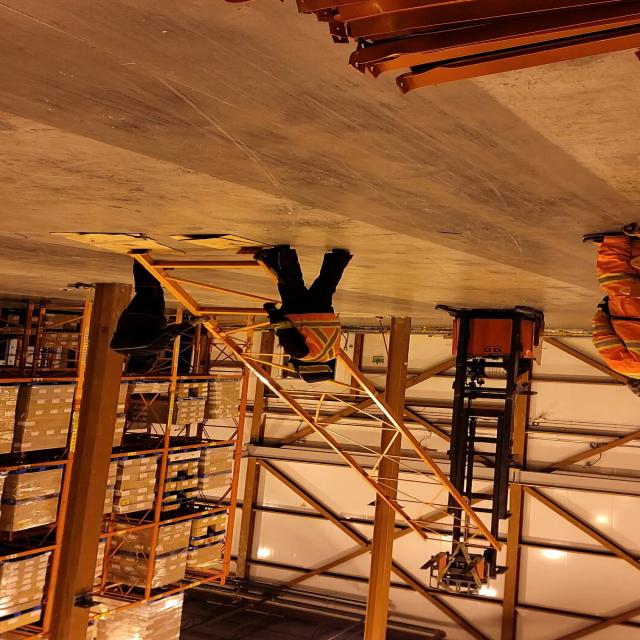forklift: (430, 303, 548, 463)
human: (254, 241, 356, 384), (107, 252, 215, 377), (580, 226, 640, 403), (482, 352, 538, 383)
objectofinterest: (125, 244, 515, 555), (48, 230, 191, 258), (162, 234, 287, 256)
